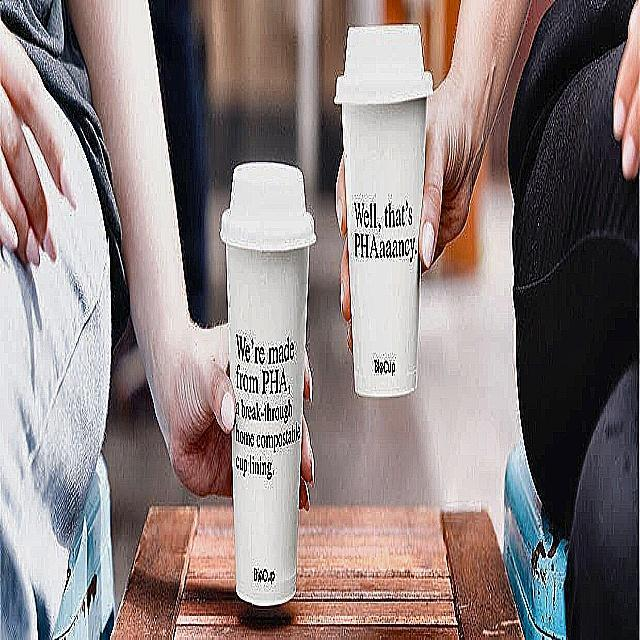paper_cup: (220, 155, 324, 618), (333, 14, 438, 407)
